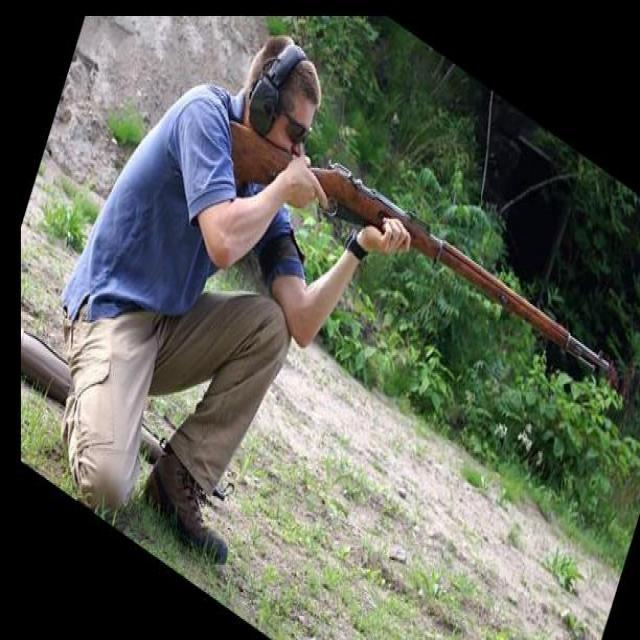weapon: (228, 118, 612, 371)
